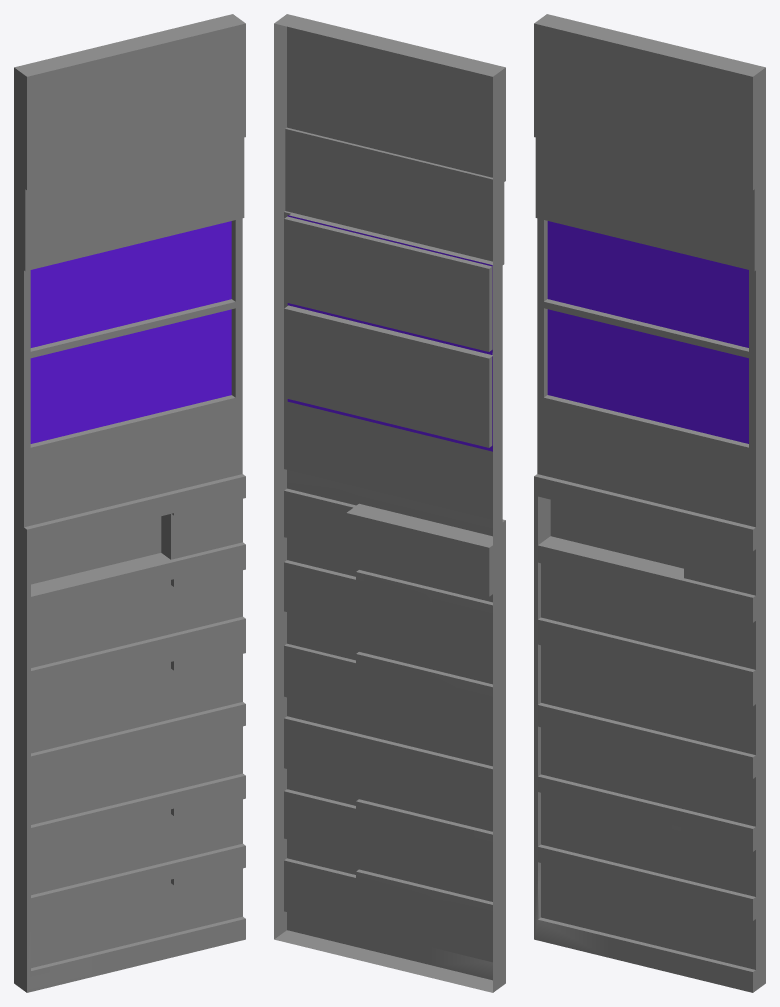
File: Building_Tile_1250x5000_C.FBX
3 views of the same model, side by side, from view 1: azimuth 30°, elevation 25°; view 2: azimuth 150°, elevation 25°; view 3: azimuth 330°, elevation 25° (orthographic).
Parts seen in each view (by area): view 1: Geometry_Building_Tile_1250x5000_C_LOD01; view 2: Geometry_Building_Tile_1250x5000_C_LOD01; view 3: Geometry_Building_Tile_1250x5000_C_LOD01.
Boxes of the visible parts, <box> form: Geometry_Building_Tile_1250x5000_C_LOD01: <box>14,14,245,992</box>; Geometry_Building_Tile_1250x5000_C_LOD01: <box>274,14,505,992</box>; Geometry_Building_Tile_1250x5000_C_LOD01: <box>534,14,765,992</box>.
Bounding box in the file's own units: 1250 × 5000 × 128.
